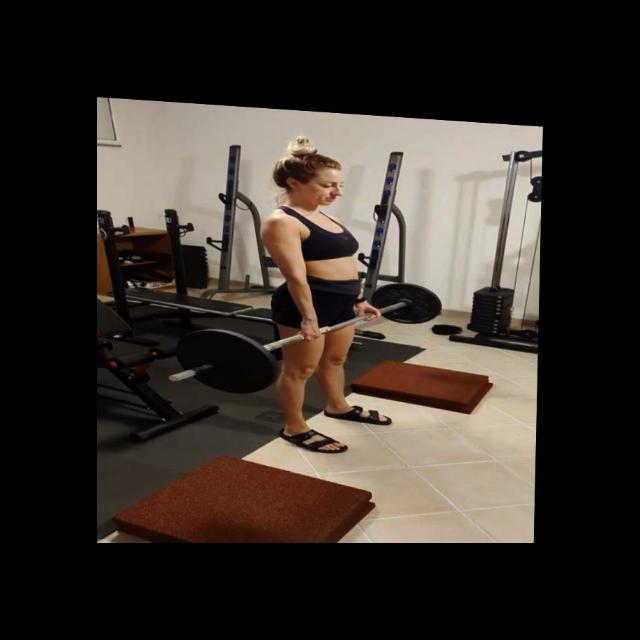barbell: (164, 322, 283, 396)
